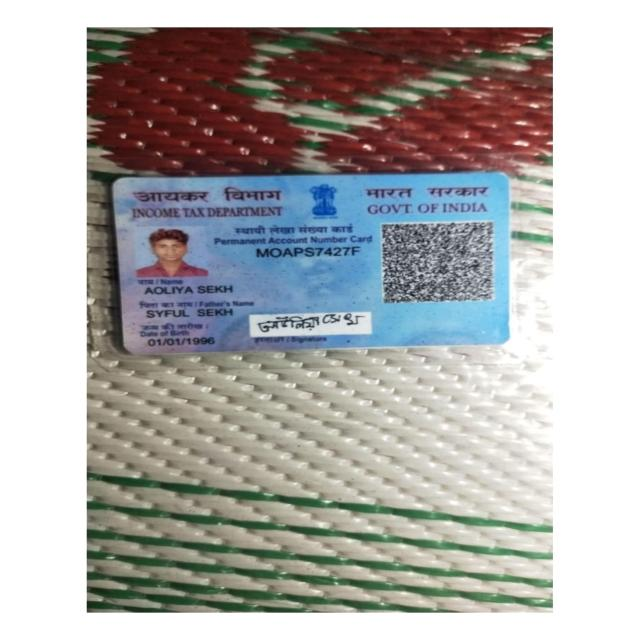pan_card: (107, 172, 510, 355)
